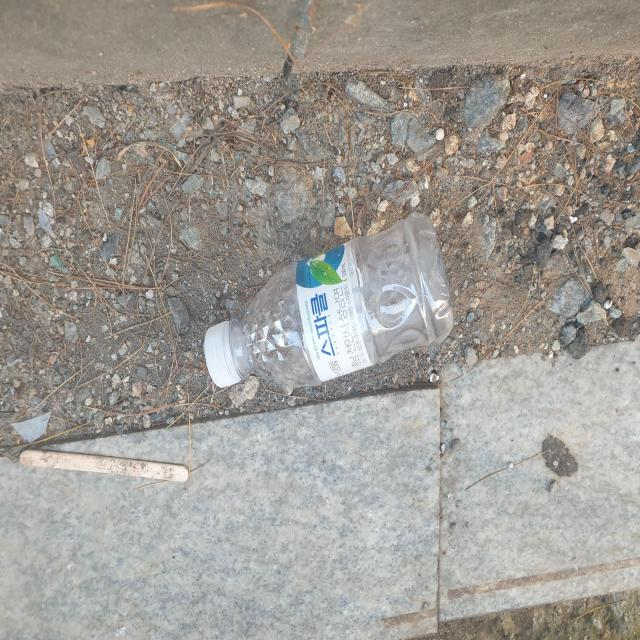plastic: (204, 213, 454, 388)
